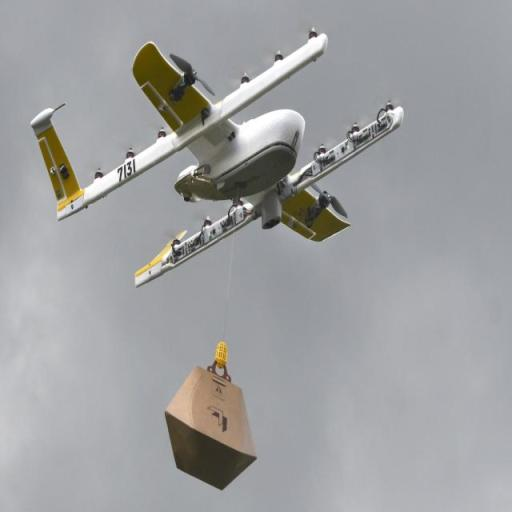uav: (27, 30, 407, 296)
